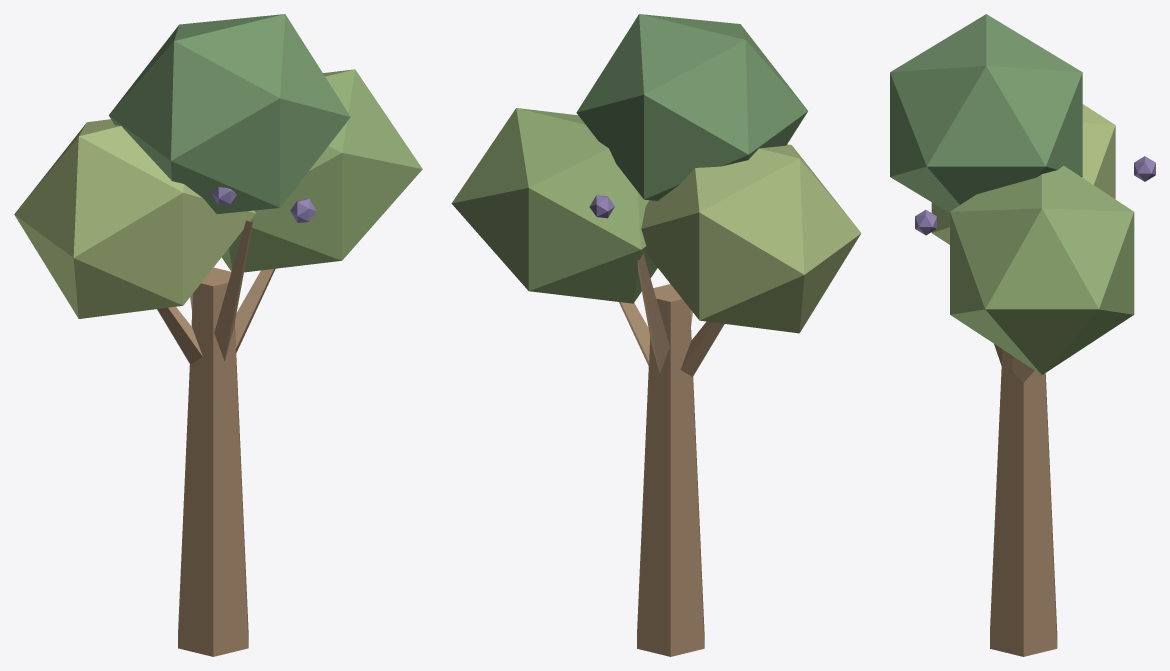
3 renders of one model, left to right at view 1: azimuth 30°, elevation 25°; view 2: azimuth 150°, elevation 25°; view 3: azimuth 270°, elevation 25°, orthographic. The views are drawn at different scales.
Visible parts, largest first — view 1: Body; view 2: Body; view 3: Body.
Part boxes in pixels (bbox=[...]): Body: bbox=[14, 14, 422, 656]; Body: bbox=[451, 14, 861, 656]; Body: bbox=[890, 14, 1155, 656].
Size of the model in its own units: 2.34 by 3.91 by 1.57.
